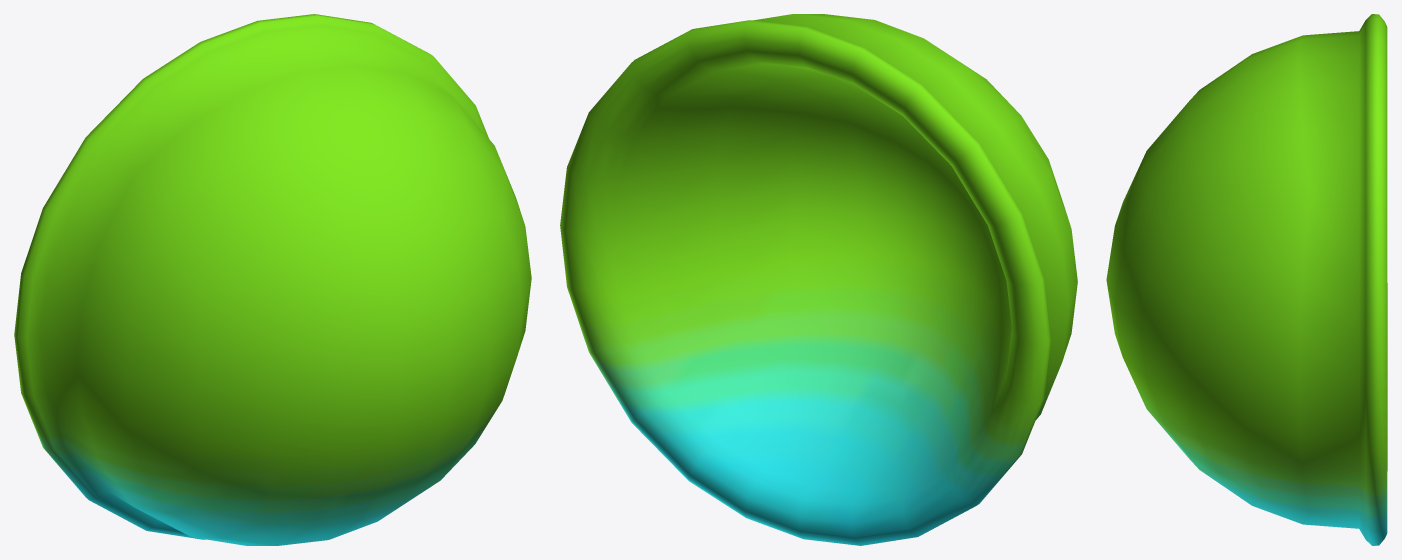
File: AmongUs_Cut_07_Pupka_003_0.FBX
3 renders of one model, left to right at view 1: azimuth 30°, elevation 25°; view 2: azimuth 150°, elevation 25°; view 3: azimuth 270°, elevation 25°, orthographic. The views are drawn at different scales.
Parts seen in each view (by area): view 1: AmongUs_Cut_07_Pupka_003_0; view 2: AmongUs_Cut_07_Pupka_003_0; view 3: AmongUs_Cut_07_Pupka_003_0.
Part boxes in pixels (left/top/right/bottom): AmongUs_Cut_07_Pupka_003_0: left=14, top=14, right=531, bottom=545; AmongUs_Cut_07_Pupka_003_0: left=560, top=14, right=1077, bottom=545; AmongUs_Cut_07_Pupka_003_0: left=1106, top=14, right=1387, bottom=545.
Bounding box in the file's own units: 0.7857 × 0.4145 × 0.7857.
